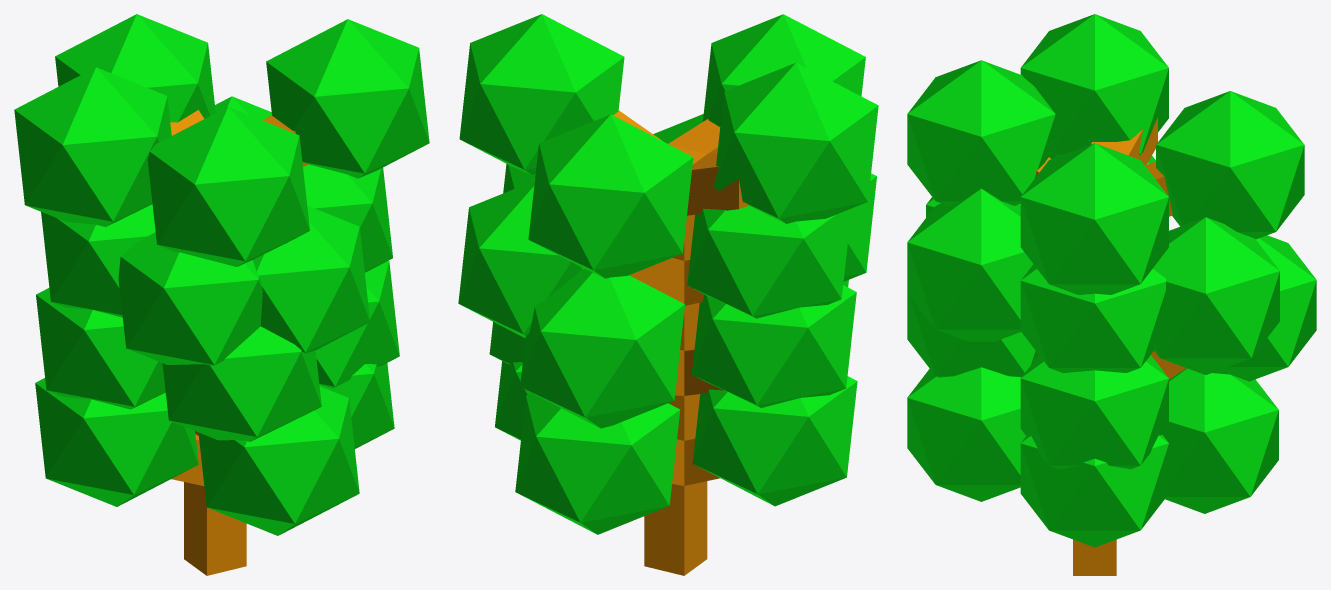
File: bush.glb
3 renders of one model, left to right at view 1: azimuth 30°, elevation 25°; view 2: azimuth 150°, elevation 25°; view 3: azimuth 270°, elevation 25°, orthographic. The views are drawn at different scales.
Visible parts, largest first — view 1: Cube.001; view 2: Cube.001; view 3: Cube.001.
Part boxes in pixels (bbox=[...]): Cube.001: bbox=[14, 14, 429, 575]; Cube.001: bbox=[458, 14, 878, 575]; Cube.001: bbox=[907, 14, 1316, 575].
Bounding box in the file's own units: 1.03 × 1.32 × 0.981.
